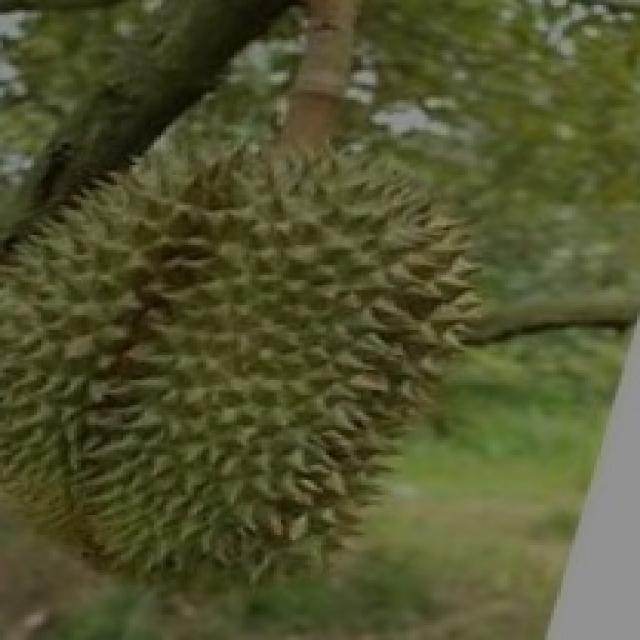fruit: (3, 290, 366, 635)
